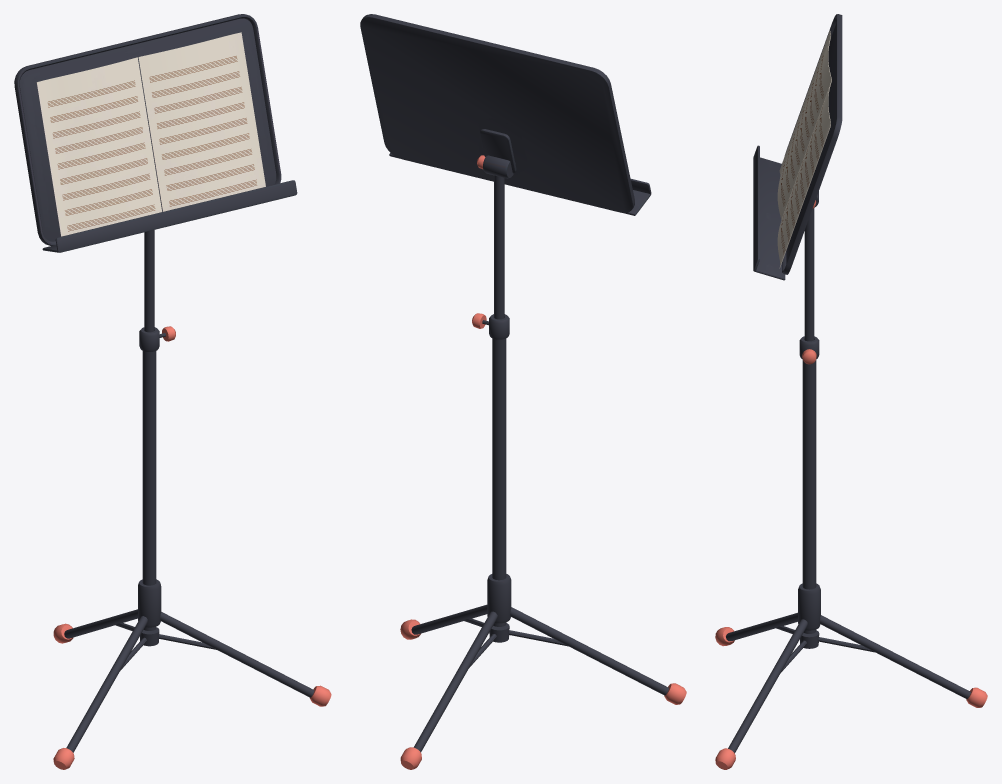
File: music-stand.glb
The picture shows the model from 3 angles, left to right: view 1: azimuth 30°, elevation 25°; view 2: azimuth 150°, elevation 25°; view 3: azimuth 270°, elevation 25°; orthographic projection. The views are drawn at different scales.
Parts seen in each view (by area): view 1: music-stand_desk, music-stand_body; view 2: music-stand_desk, music-stand_body; view 3: music-stand_desk, music-stand_body.
Part boxes in pixels (<box>): music-stand_desk: <box>14,14,297,332</box>; music-stand_body: <box>53,326,331,769</box>; music-stand_desk: <box>360,14,651,319</box>; music-stand_body: <box>400,313,686,769</box>; music-stand_desk: <box>753,14,842,341</box>; music-stand_body: <box>715,336,987,769</box>.
Bounding box in the file's own units: 0.5712 × 1.29 × 0.4985.
Materials: 2 (2 with a texture image).
